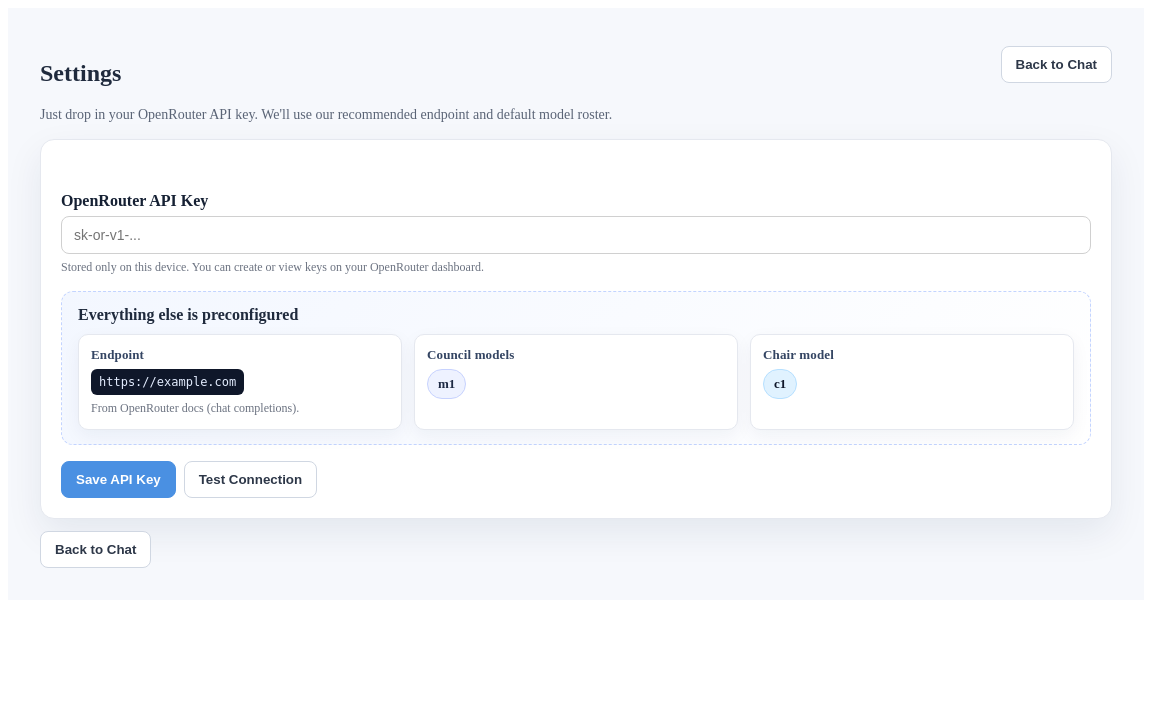
Settings › shows test connection failure
The image size is (1152, 720).
Expected: the text "https://example.com" is shown, x1=91 y1=369 x2=244 y2=395
What coordinates should you click on to do the following:
click the button "Test Connection"
I would click on:
 (250, 479)
Its box is x1=184 y1=461 x2=317 y2=498.
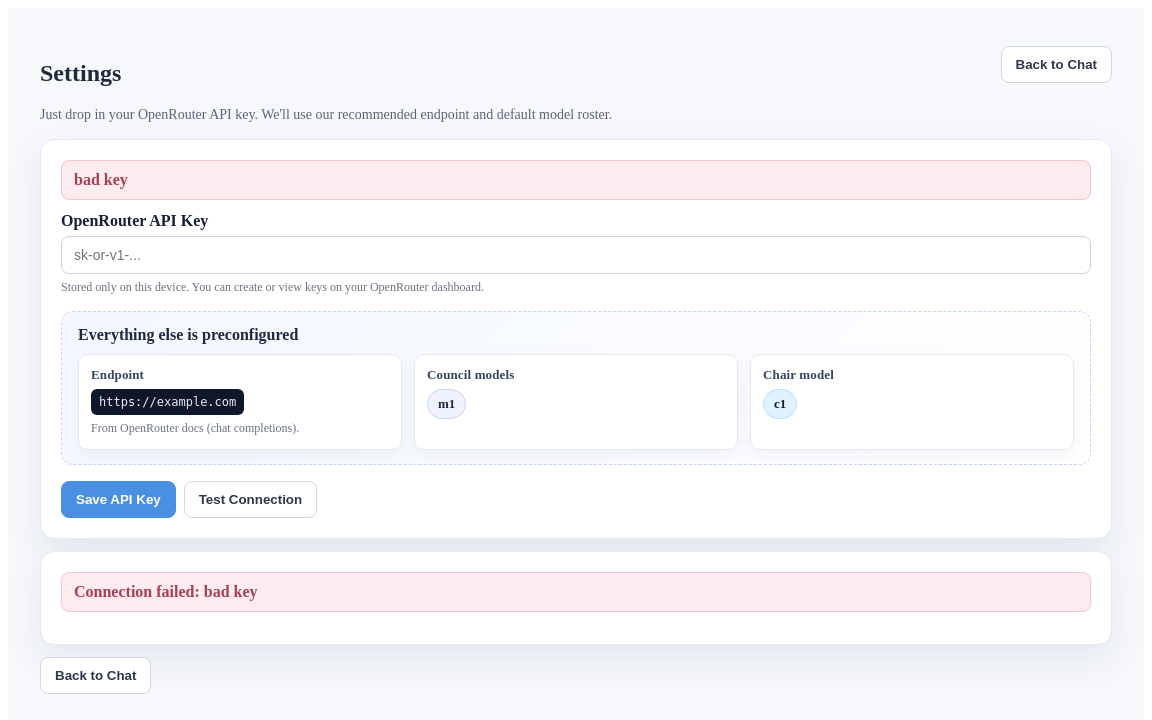
Now the message with test id "test-failure" shows "bad key", box x1=204 y1=583 x2=258 y2=600
